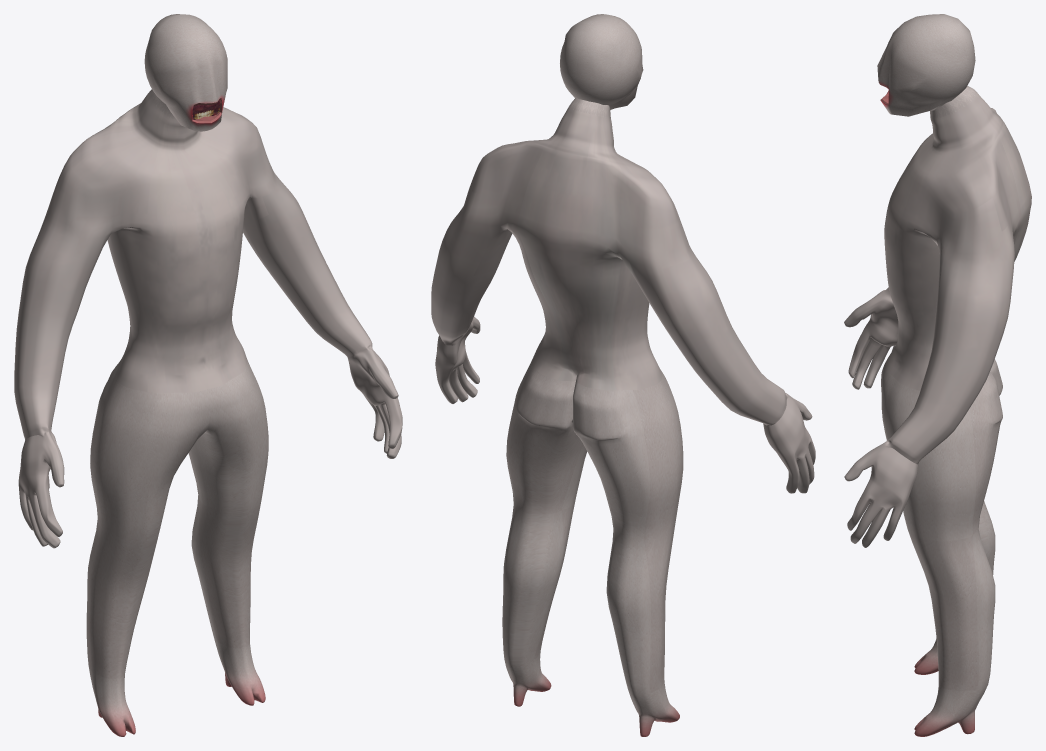
File: borasare.fbx
The picture shows the model from 3 angles, left to right: view 1: azimuth 30°, elevation 25°; view 2: azimuth 150°, elevation 25°; view 3: azimuth 270°, elevation 25°; orthographic projection.
Parts seen in each view (by area): view 1: HeadShape; view 2: HeadShape; view 3: HeadShape.
Boxes of the visible parts, x1,y1,x2,y2 form: HeadShape: [14, 14, 402, 736]; HeadShape: [431, 14, 815, 736]; HeadShape: [844, 14, 1031, 736].
Bounding box in the file's own units: 6.06 × 11.05 × 2.74.
